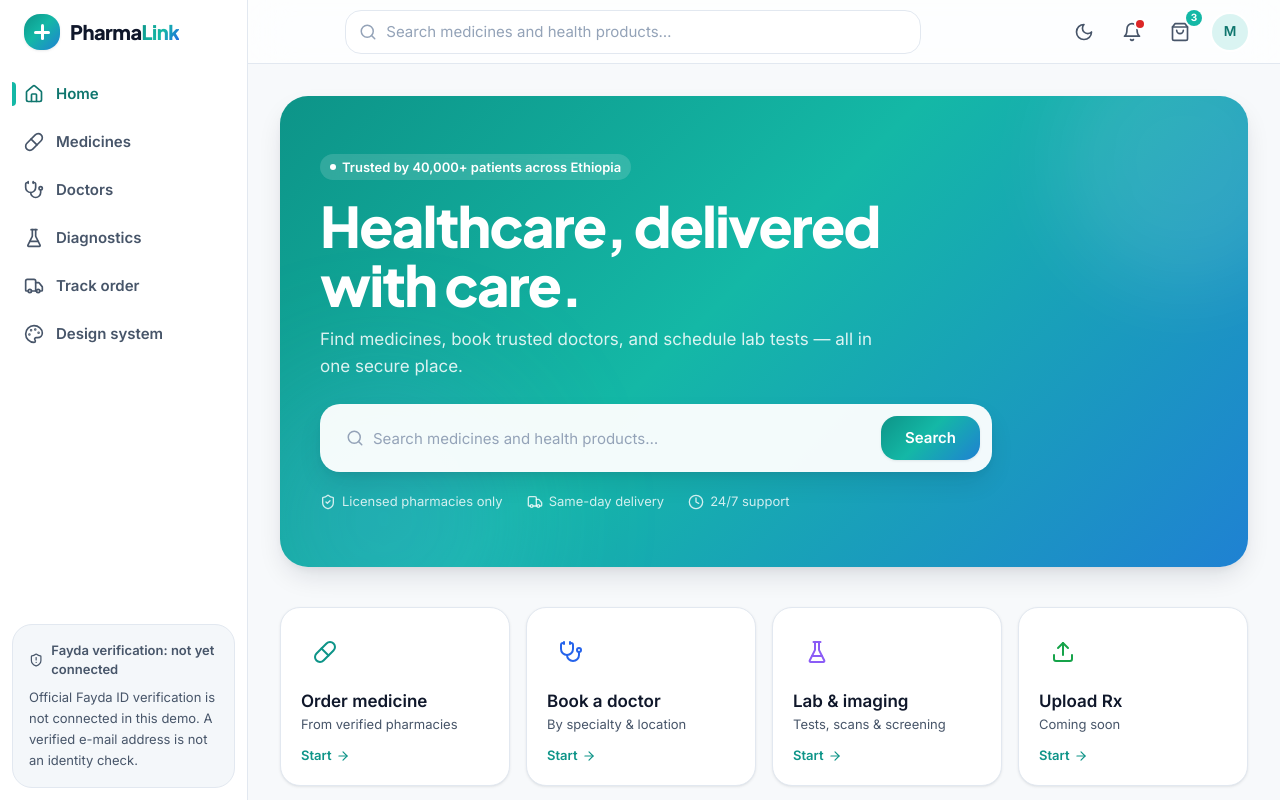
Test: navigation, logout and session expiry › shows sign-in actions when signed out and the customer menu when signed in
Check: the link "Sign in" is not shown
Click the button named "Account menu": coordinates (1230, 32) [1212,14,1248,50]
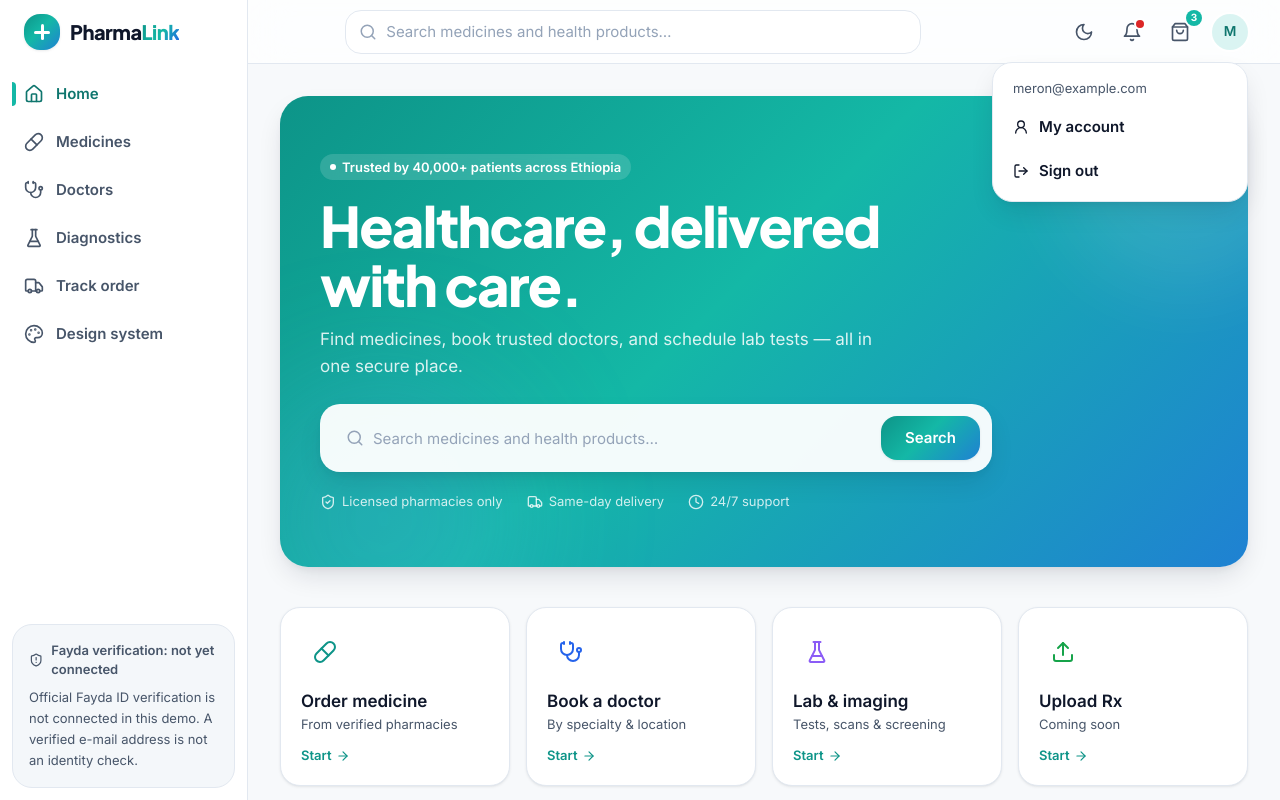
Check: the text "meron@example.com" is shown, box [1013,80,1147,96]
Check: the menu item "My account" is shown, box [1013,117,1124,136]
Click the menu item "Sign out": coordinates (1120, 171) [1001,149,1239,193]
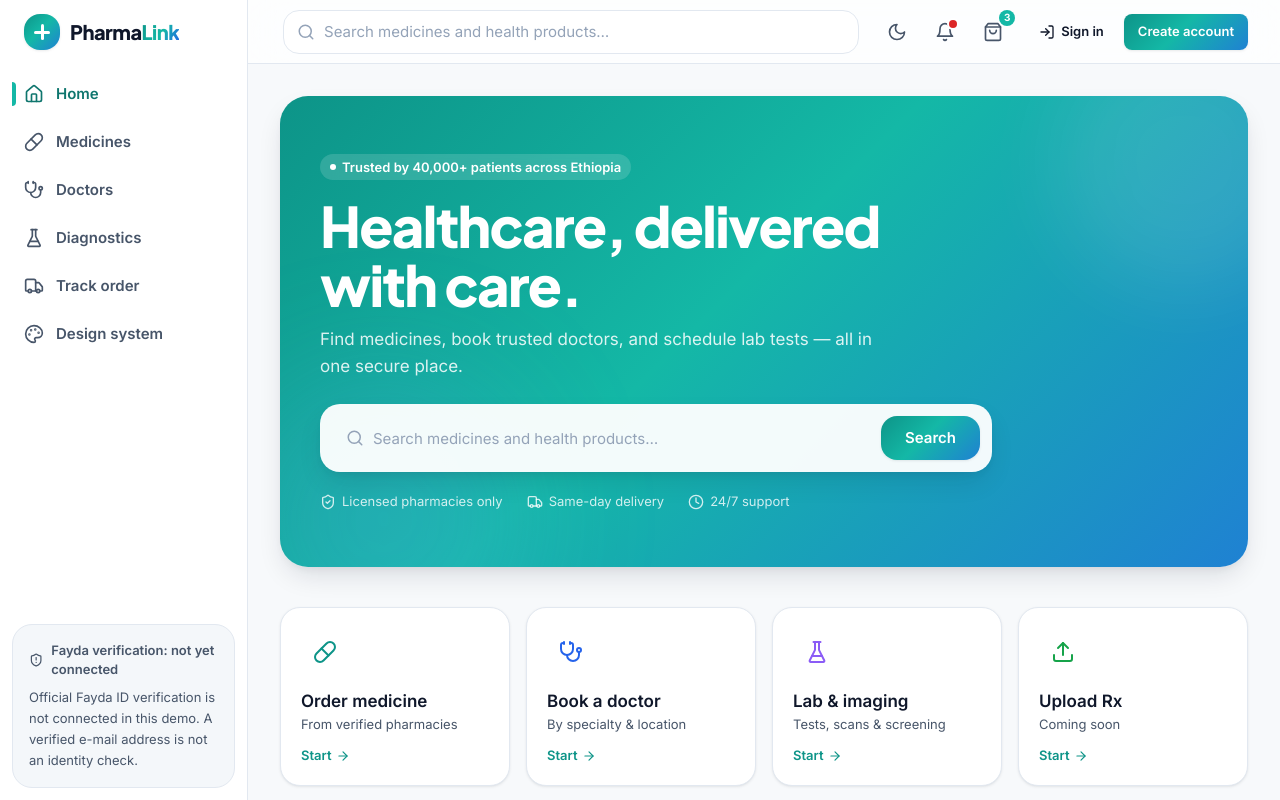
Check: the link "Sign in" is shown, box [1039,23,1104,40]
Check: the link "Create account" is shown, box [1124,14,1248,50]
